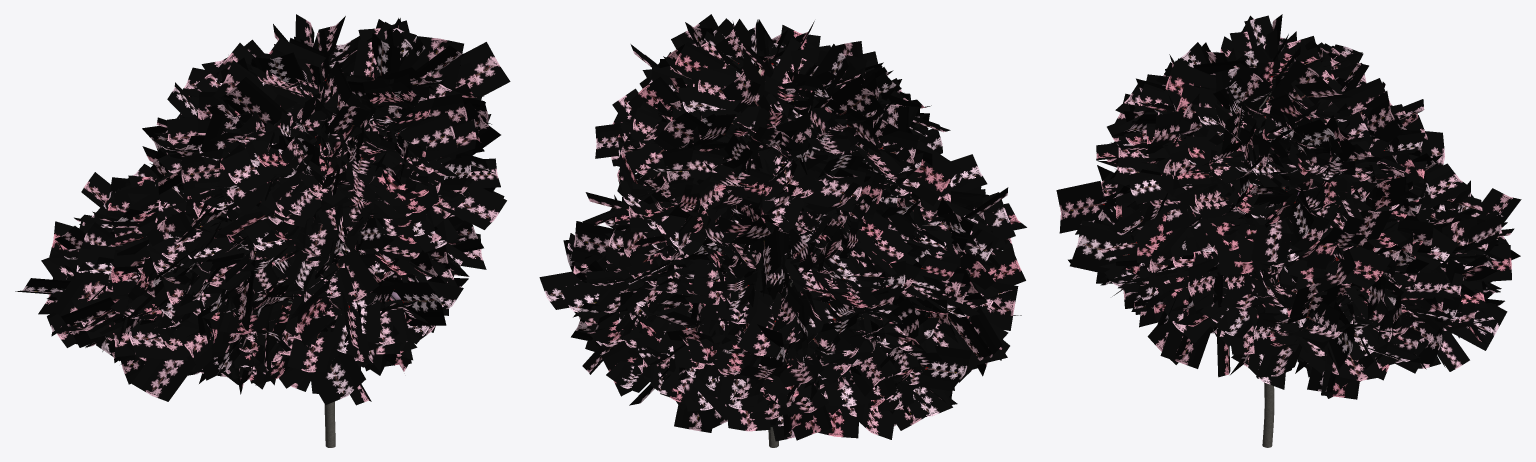
The model's file is tree_16_red_maple.glb.
The picture shows the model from 3 angles, left to right: view 1: azimuth 30°, elevation 25°; view 2: azimuth 150°, elevation 25°; view 3: azimuth 270°, elevation 25°; orthographic projection. The views are drawn at different scales.
Parts seen in each view (by area): view 1: tree_16_red_maple.leaves, tree_16_red_maple.trunk_branches; view 2: tree_16_red_maple.leaves; view 3: tree_16_red_maple.leaves, tree_16_red_maple.trunk_branches.
Part boxes in pixels (x1=…): tree_16_red_maple.leaves: x1=15, y1=14, x2=510, y2=405; tree_16_red_maple.trunk_branches: x1=288, y1=65, x2=395, y2=447; tree_16_red_maple.leaves: x1=539, y1=14, x2=1026, y2=441; tree_16_red_maple.leaves: x1=1056, y1=14, x2=1521, y2=399; tree_16_red_maple.trunk_branches: x1=1259, y1=92, x2=1301, y2=447.
Bounding box in the file's own units: 8.87 × 8.15 × 8.53.
3 materials, 2 textured.
